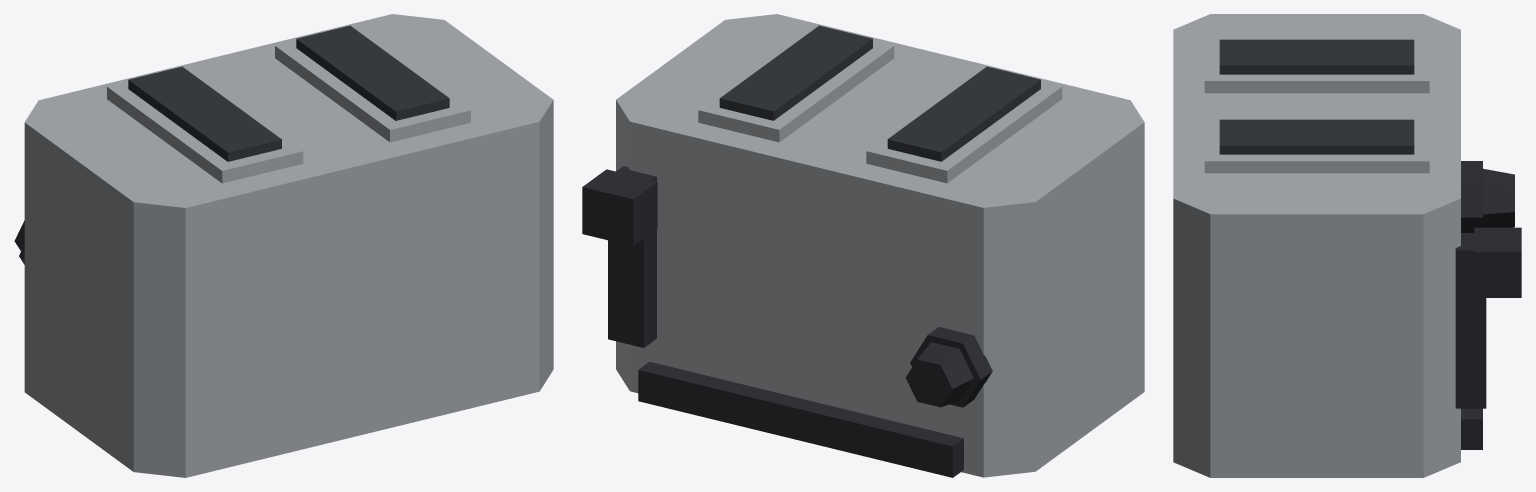
File: SM_LPI_Appl_Toaster_01.fbx
3 views of the same model, side by side, from view 1: azimuth 30°, elevation 25°; view 2: azimuth 150°, elevation 25°; view 3: azimuth 270°, elevation 25° (orthographic). The views are drawn at different scales.
Visible parts, largest first — view 1: SM_LPI_Appl_Toaster_01; view 2: SM_LPI_Appl_Toaster_01; view 3: SM_LPI_Appl_Toaster_01.
Boxes of the visible parts, x1,y1,x2,y2 form: SM_LPI_Appl_Toaster_01: [14, 14, 553, 477]; SM_LPI_Appl_Toaster_01: [582, 14, 1144, 477]; SM_LPI_Appl_Toaster_01: [1173, 14, 1521, 477].
Size of the model in its own units: 0.28 by 0.204 by 0.206.
